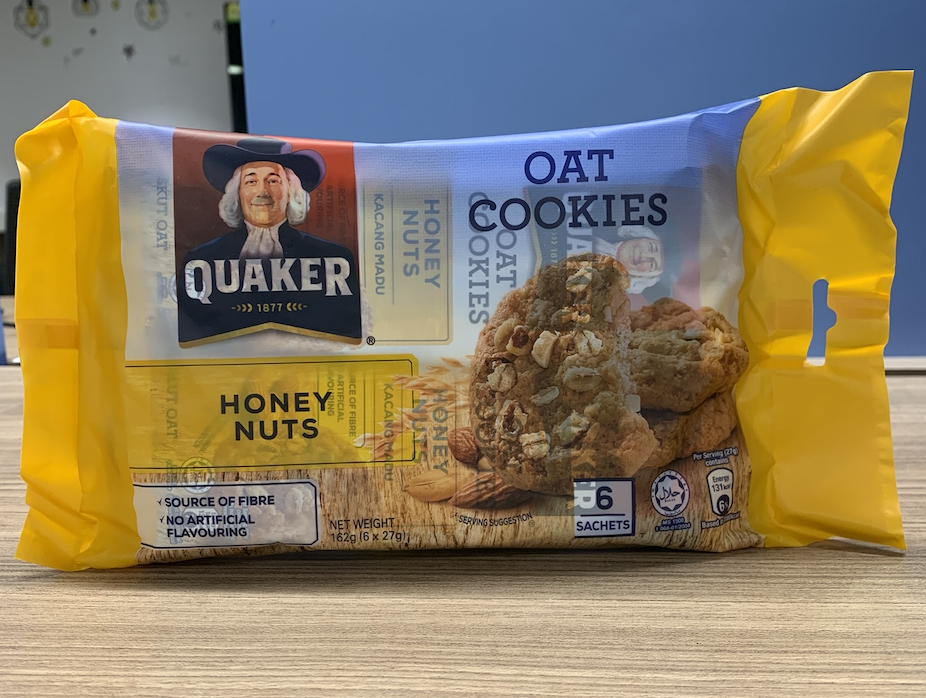cookies_100g-199g: (79, 141, 846, 542)
